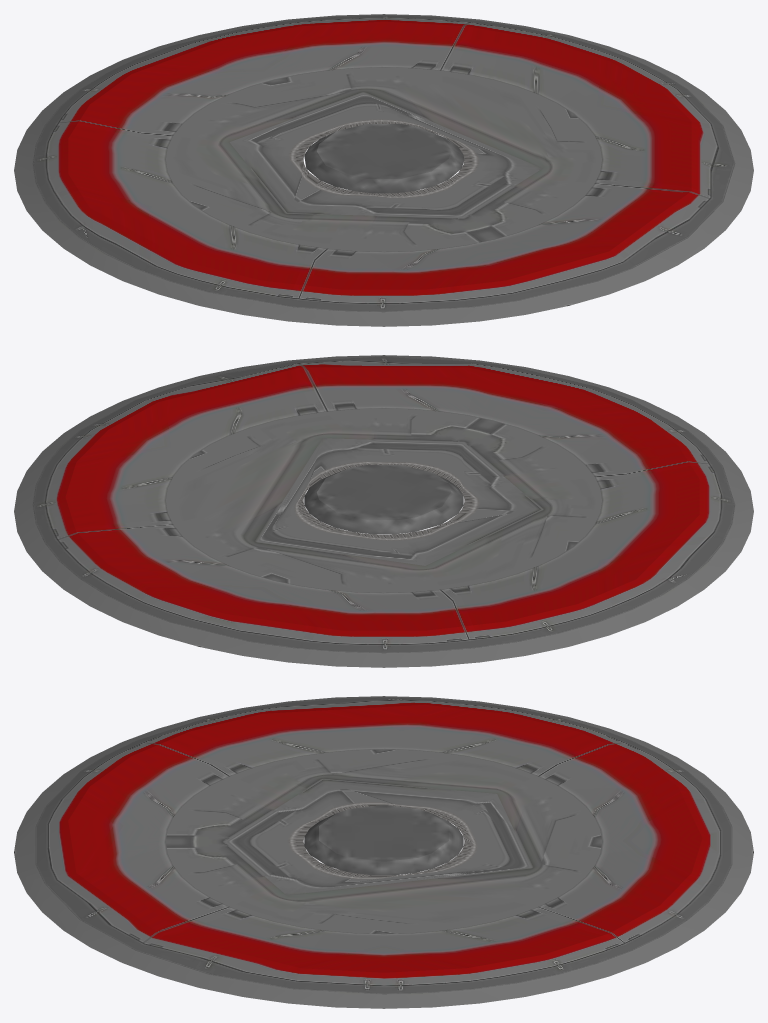
The model's file is core_platform_lod1.glb.
3 renders of one model, top to bottom at view 1: azimuth 30°, elevation 25°; view 2: azimuth 150°, elevation 25°; view 3: azimuth 270°, elevation 25°, orthographic.
Visible parts, largest first — view 1: Platform_Round1; view 2: Platform_Round1; view 3: Platform_Round1.
Part boxes in pixels (box(x1,y1,x2,y2)): Platform_Round1: box(14, 14, 753, 326); Platform_Round1: box(14, 355, 753, 667); Platform_Round1: box(14, 696, 753, 1008).
Size of the model in its own units: 5.99 by 0.1704 by 5.99.
Materials: 2 (2 with a texture image).
